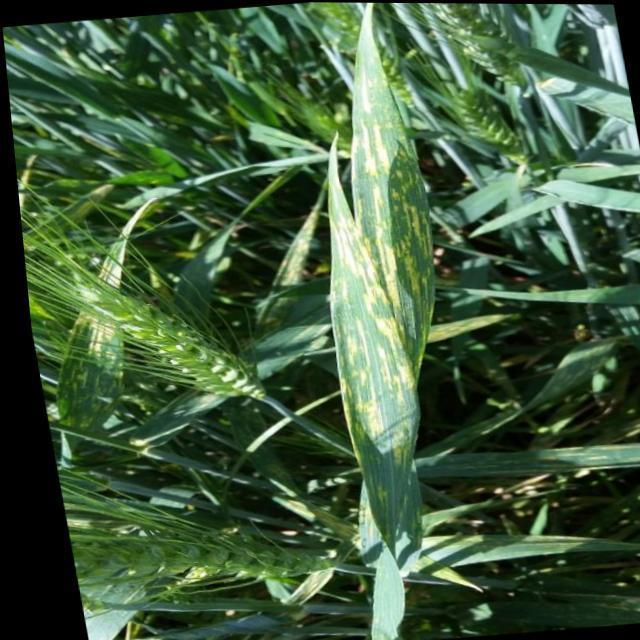Septoria: (293, 1, 430, 639)
